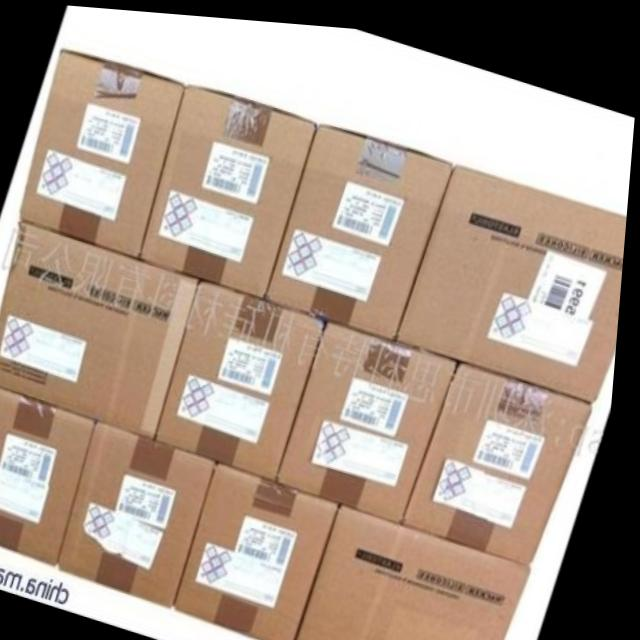box: (399, 156, 630, 392), (0, 220, 204, 437), (269, 117, 454, 332), (408, 351, 599, 556), (142, 81, 320, 295), (282, 313, 464, 515), (302, 495, 540, 640), (161, 275, 331, 477), (23, 47, 185, 257), (182, 459, 348, 640), (65, 420, 223, 604), (0, 384, 102, 565)
